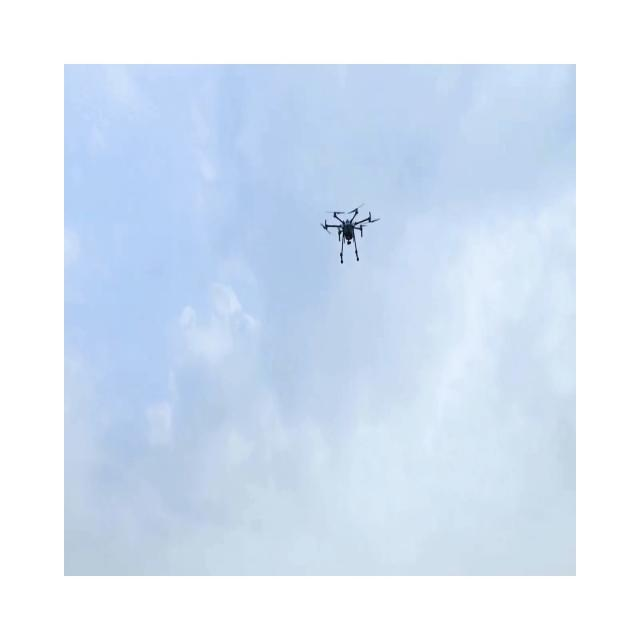drone: (320, 202, 380, 264)
